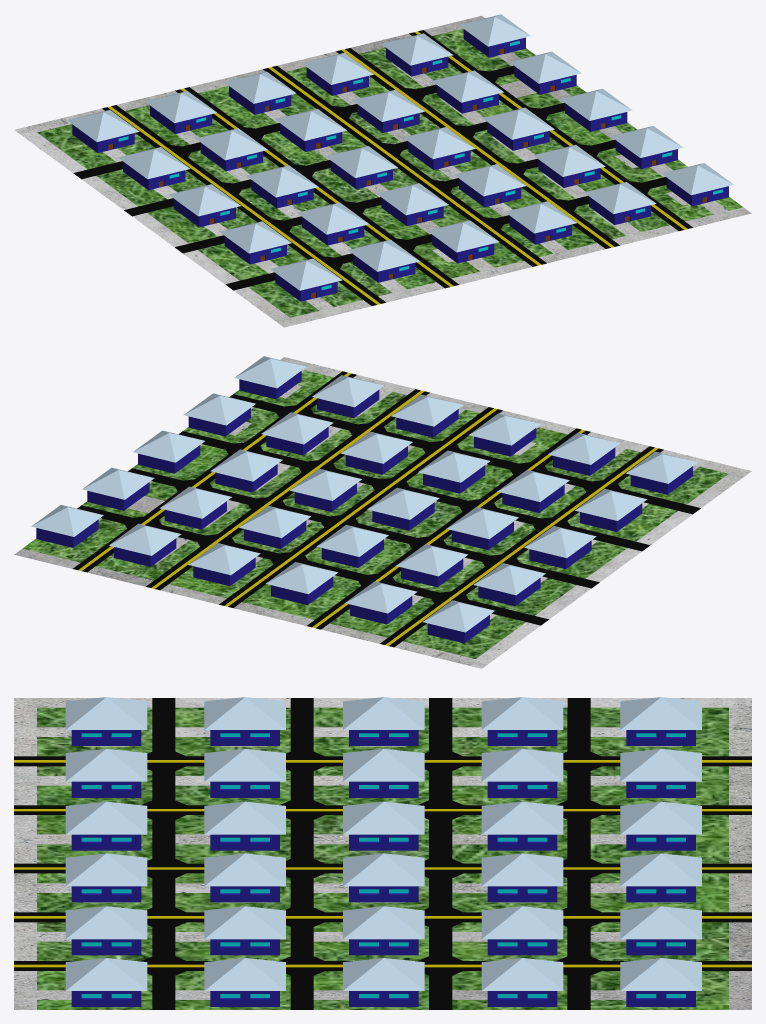
File: houses_final.dae
3 views of the same model, one above another, from view 1: azimuth 30°, elevation 25°; view 2: azimuth 150°, elevation 25°; view 3: azimuth 270°, elevation 25° (orthographic). The views are drawn at different scales.
Parts seen in each view (by area): view 1: Plane_001, Cube; view 2: Plane_001, Cube; view 3: Plane_001, Cube.
Boxes of the visible parts, x1,y1,x2,y2 form: Plane_001: (14,15,751,327); Cube: (67,14,733,301); Plane_001: (14,357,751,668); Cube: (31,356,697,643); Plane_001: (14,698,751,1009); Cube: (65,697,701,1006).
Bounding box in the file's own units: 8.02 × 8 × 0.459.
Materials: 8 (2 with a texture image).
